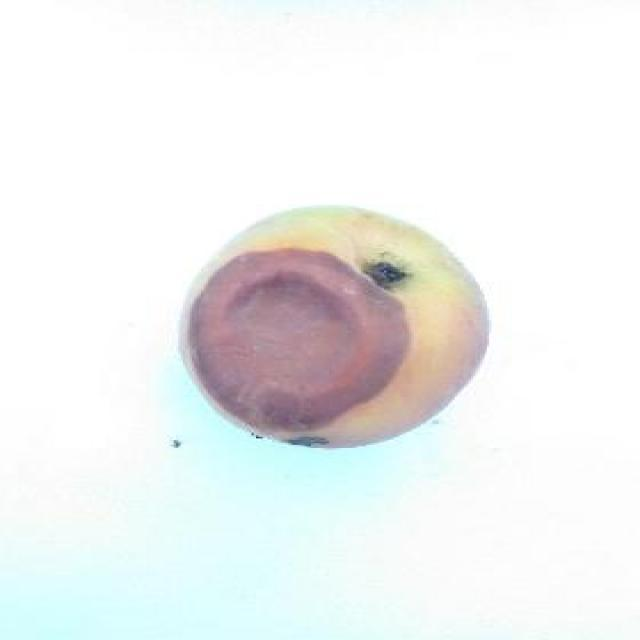Banana: (190, 207, 488, 453)
